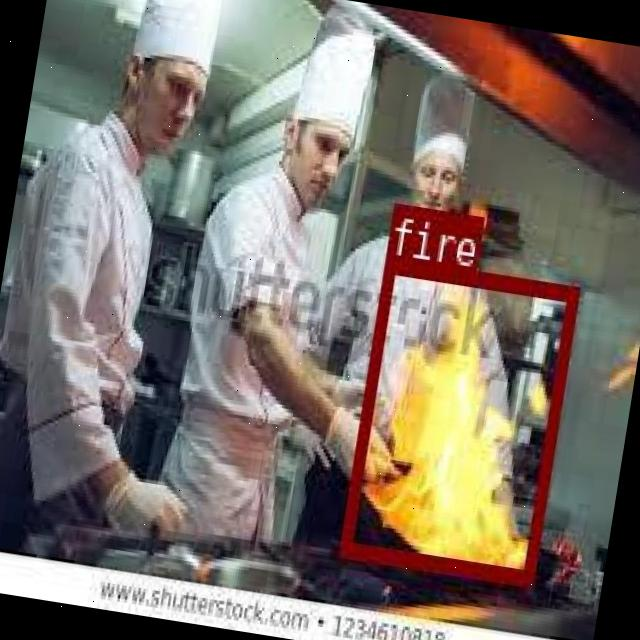fire: (339, 253, 578, 582)
